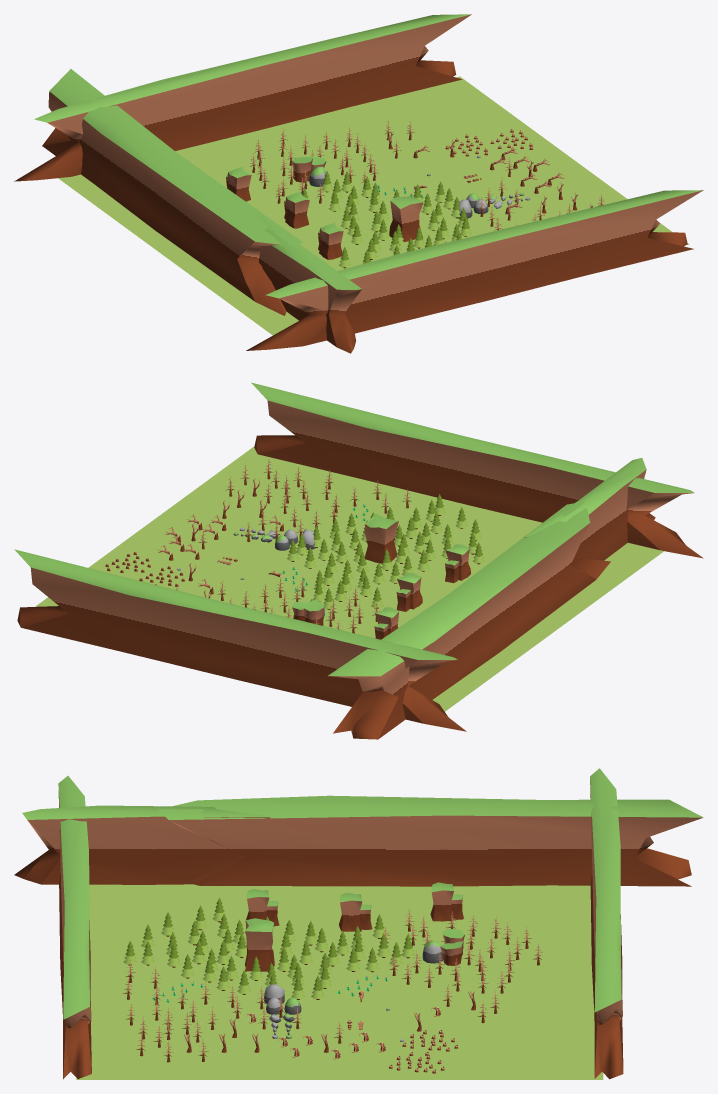
Rendered from lvl2.glb.
The picture shows the model from 3 angles, top to bottom: view 1: azimuth 30°, elevation 25°; view 2: azimuth 150°, elevation 25°; view 3: azimuth 270°, elevation 25°; orthographic projection. The views are drawn at different scales.
Visible parts, largest first — view 1: Plane, Ground.005, Ground.008, Ground.011, Ground.003, Ground.018, Ground.004, Ground.007, Ground.006, Ground.001; view 2: Plane, Ground.005, Ground.008, Ground.011, Ground.003, Ground.018, Ground.007, Ground.004, Ground.001, Ground.006; view 3: Plane, Ground.011, Ground.003, Ground.005, Ground.008, Ground.018, Ground.006, Ground.004, Ground.007, Ground.001.
Part boxes in pixels (box(x1,y1,x2,y2)): Plane: box(58, 76, 689, 335); Ground.005: box(14, 14, 471, 181); Ground.008: box(246, 190, 703, 350); Ground.011: box(42, 69, 302, 315); Ground.003: box(255, 208, 361, 353); Ground.018: box(389, 195, 423, 241); Ground.004: box(284, 191, 309, 228); Ground.007: box(318, 223, 343, 259); Ground.006: box(226, 167, 251, 201); Ground.001: box(291, 156, 326, 182); Plane: box(35, 447, 663, 711); Ground.005: box(14, 549, 466, 731); Ground.008: box(251, 382, 703, 558); Ground.011: box(328, 501, 610, 739); Ground.003: box(523, 458, 655, 560); Ground.018: box(364, 513, 398, 563); Ground.007: box(445, 544, 470, 583); Ground.004: box(396, 573, 422, 611); Ground.001: box(292, 601, 323, 625); Ground.006: box(374, 607, 398, 639); Plane: box(76, 884, 603, 1079); Ground.011: box(158, 795, 703, 886); Ground.003: box(14, 805, 270, 884); Ground.005: box(590, 768, 623, 1079); Ground.008: box(58, 776, 91, 1079); Ground.018: box(245, 918, 274, 971); Ground.006: box(430, 882, 464, 921); Ground.004: box(339, 892, 372, 931); Ground.007: box(246, 889, 279, 926); Ground.001: box(440, 929, 464, 965).
Bounding box in the file's own units: 137 × 19.11 × 158.
Materials: 190 (190 with a texture image).
